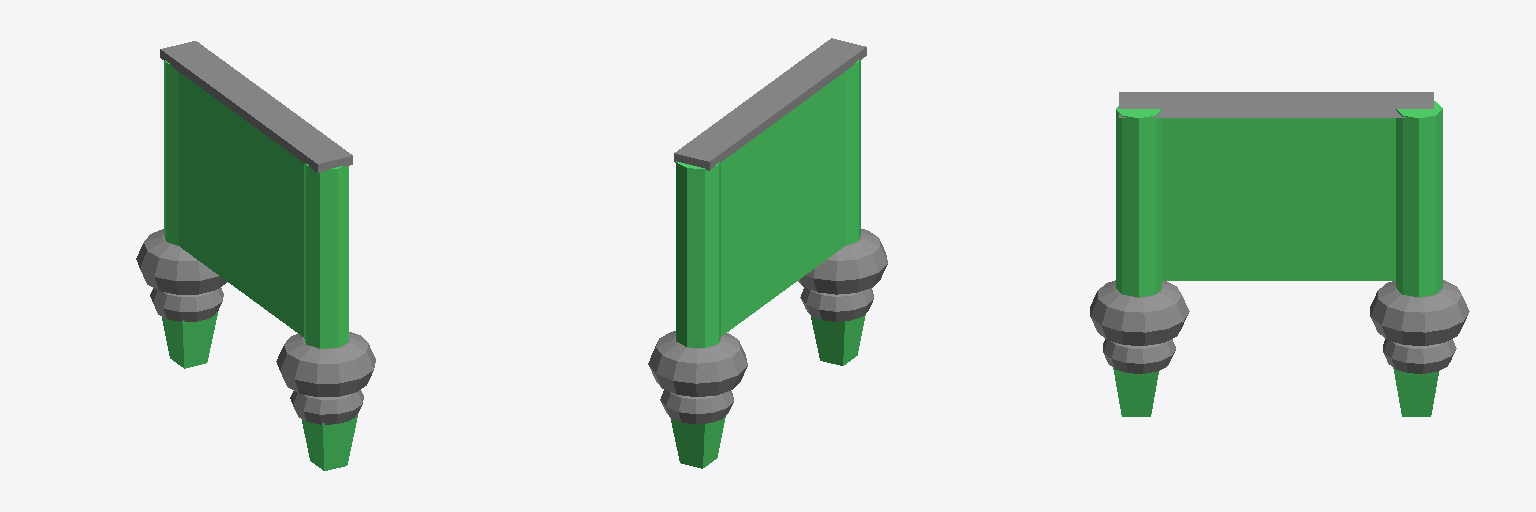
The model's file is old_commode_right.obj.
3 views of the same model, side by side, from view 1: azimuth 30°, elevation 25°; view 2: azimuth 150°, elevation 25°; view 3: azimuth 270°, elevation 25° (orthographic).
Visible parts, largest first — view 1: old_commode_right; view 2: old_commode_right; view 3: old_commode_right.
Part boxes in pixels (left/top/right/bottom): old_commode_right: left=136, top=41, right=375, bottom=470; old_commode_right: left=648, top=38, right=887, bottom=468; old_commode_right: left=1090, top=92, right=1469, bottom=416.
Bounding box in the file's own units: 19.02 × 65.05 × 72.18.